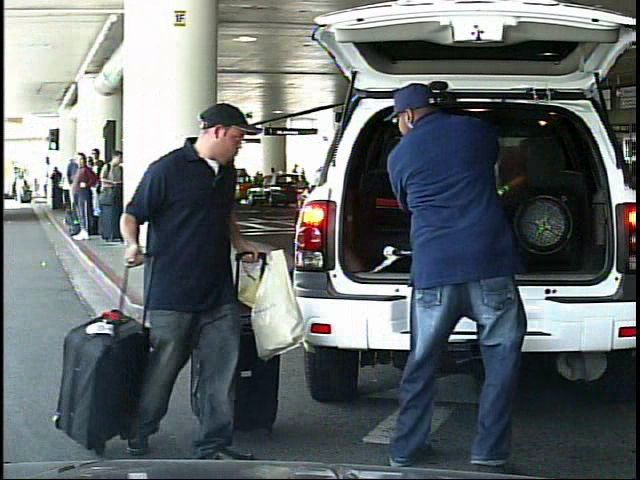person: (371, 75, 556, 477), (121, 106, 266, 458), (288, 162, 301, 194), (16, 172, 27, 203)
